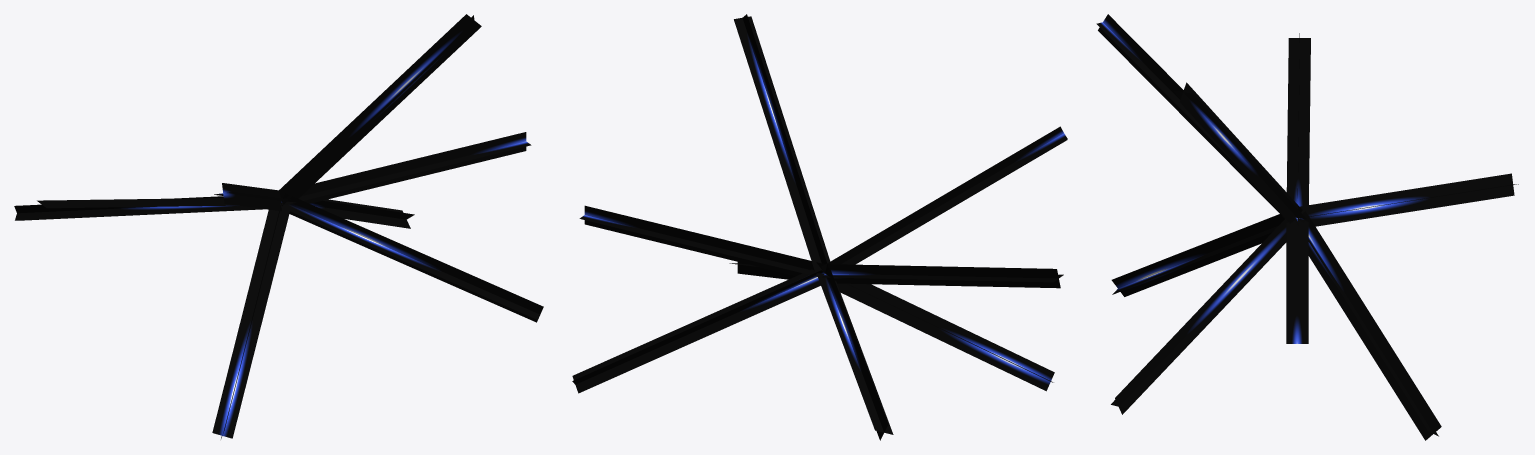
The model's file is convergence.FBX.
3 views of the same model, side by side, from view 1: azimuth 30°, elevation 25°; view 2: azimuth 150°, elevation 25°; view 3: azimuth 270°, elevation 25° (orthographic). The views are drawn at different scales.
Visible parts, largest first — view 1: Plane003, Plane006, Plane007, Plane002, Plane008, Plane015, Plane011, Plane001, Plane005, Plane010, Plane014, Plane016 (+1 smaller); view 2: Plane004, Plane013, Plane012, Plane005, Plane002, Plane010, Plane009, Plane015, Plane006, Plane014, Plane001, Plane016 (+2 smaller); view 3: Plane016, Plane014, Plane011, Plane004, Plane001, Plane007, Plane006, Plane010, Plane008, Plane005, Plane009, Plane013 (+1 smaller).
Boxes of the visible parts, bbox=[...] form: Plane003: bbox=[212, 204, 291, 438]; Plane006: bbox=[279, 14, 481, 198]; Plane007: bbox=[283, 193, 543, 322]; Plane002: bbox=[301, 132, 526, 203]; Plane008: bbox=[281, 204, 539, 319]; Plane015: bbox=[15, 205, 264, 220]; Plane011: bbox=[37, 198, 286, 208]; Plane001: bbox=[285, 141, 531, 204]; Plane005: bbox=[282, 15, 474, 205]; Plane010: bbox=[222, 183, 281, 211]; Plane014: bbox=[315, 199, 410, 228]; Plane016: bbox=[14, 196, 262, 220]; Plane004: bbox=[837, 283, 1054, 391]; Plane013: bbox=[572, 269, 820, 393]; Plane012: bbox=[825, 264, 1060, 288]; Plane005: bbox=[734, 16, 830, 274]; Plane002: bbox=[584, 205, 824, 275]; Plane010: bbox=[821, 126, 1067, 272]; Plane009: bbox=[841, 133, 1067, 264]; Plane015: bbox=[816, 271, 893, 434]; Plane006: bbox=[742, 14, 829, 273]; Plane014: bbox=[572, 270, 824, 384]; Plane001: bbox=[579, 215, 817, 276]; Plane016: bbox=[825, 267, 888, 440]; Plane016: bbox=[1300, 173, 1514, 226]; Plane014: bbox=[1299, 211, 1441, 440]; Plane011: bbox=[1286, 38, 1310, 215]; Plane004: bbox=[1111, 213, 1284, 296]; Plane001: bbox=[1286, 218, 1308, 343]; Plane007: bbox=[1115, 219, 1288, 414]; Plane006: bbox=[1180, 82, 1297, 223]; Plane010: bbox=[1098, 14, 1302, 218]; Plane008: bbox=[1111, 218, 1305, 408]; Plane005: bbox=[1174, 91, 1306, 219]; Plane009: bbox=[1096, 22, 1237, 165]; Plane013: bbox=[1293, 216, 1438, 436].
Bounding box in the file's own units: 58.01 × 38.62 × 41.65.
